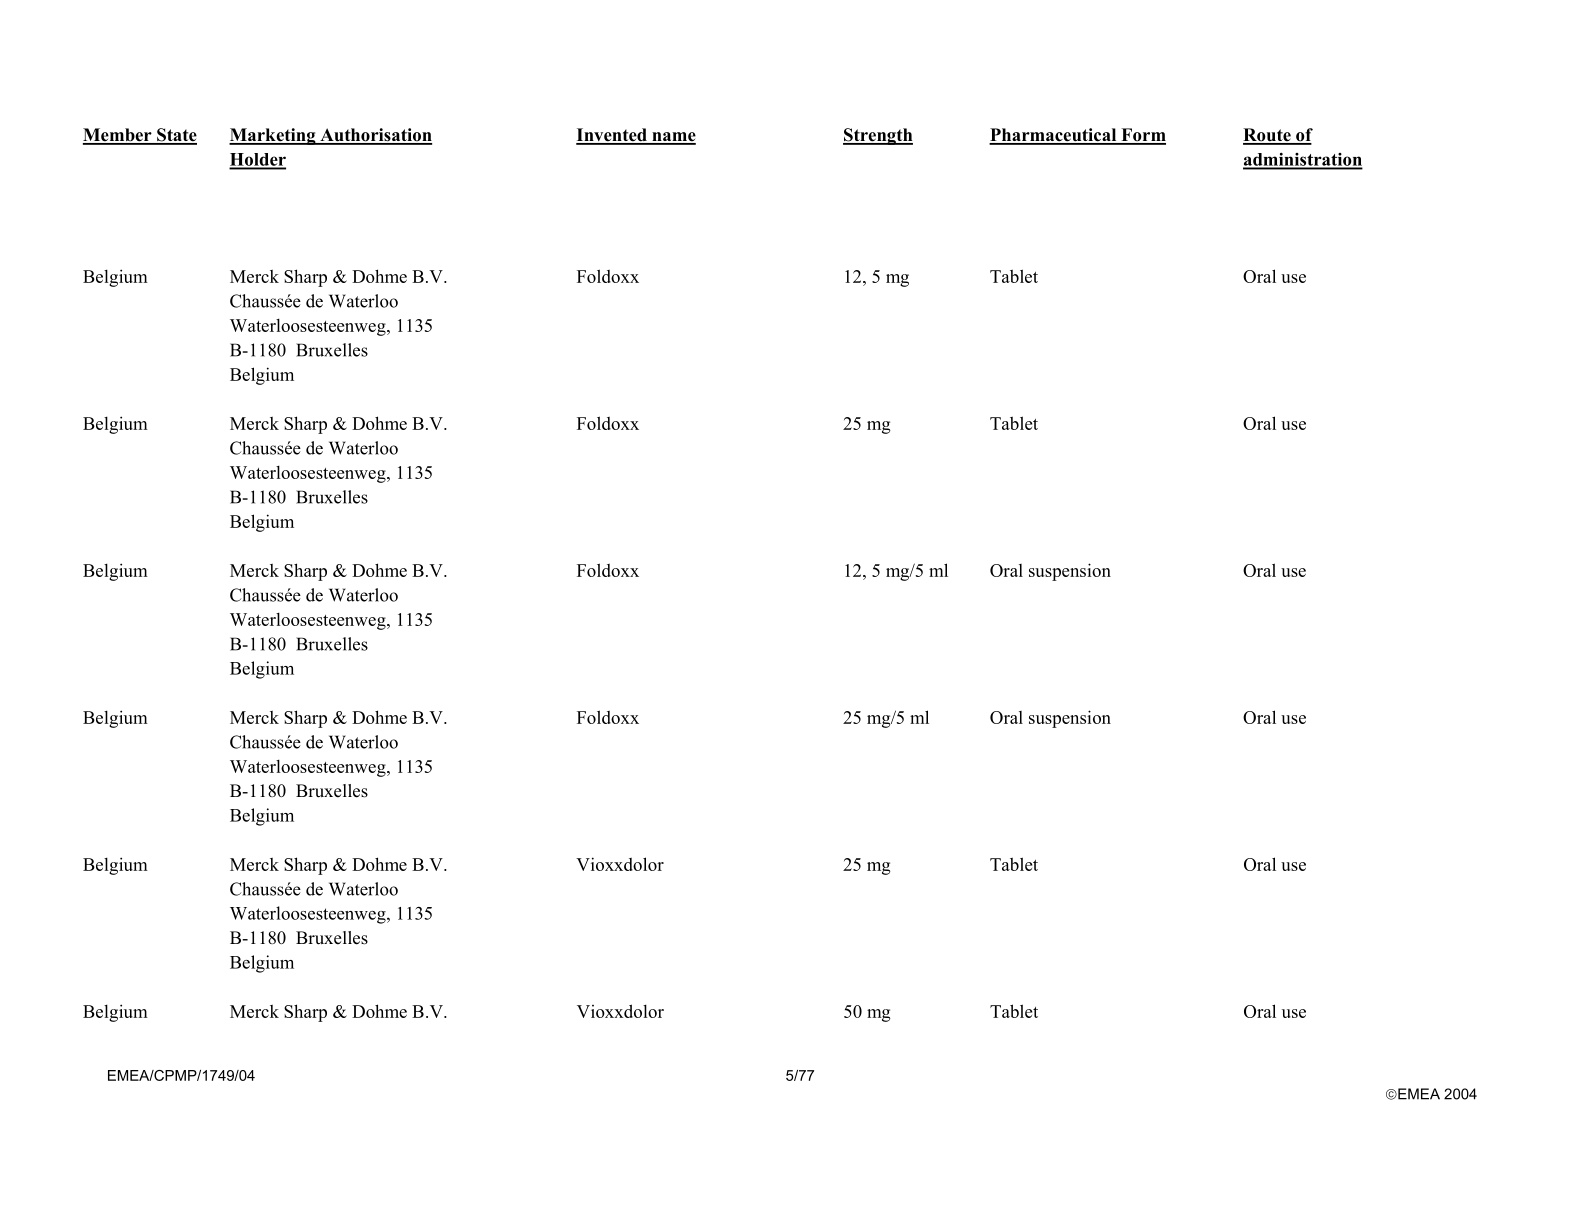nolines: (81, 122, 1368, 1022)
